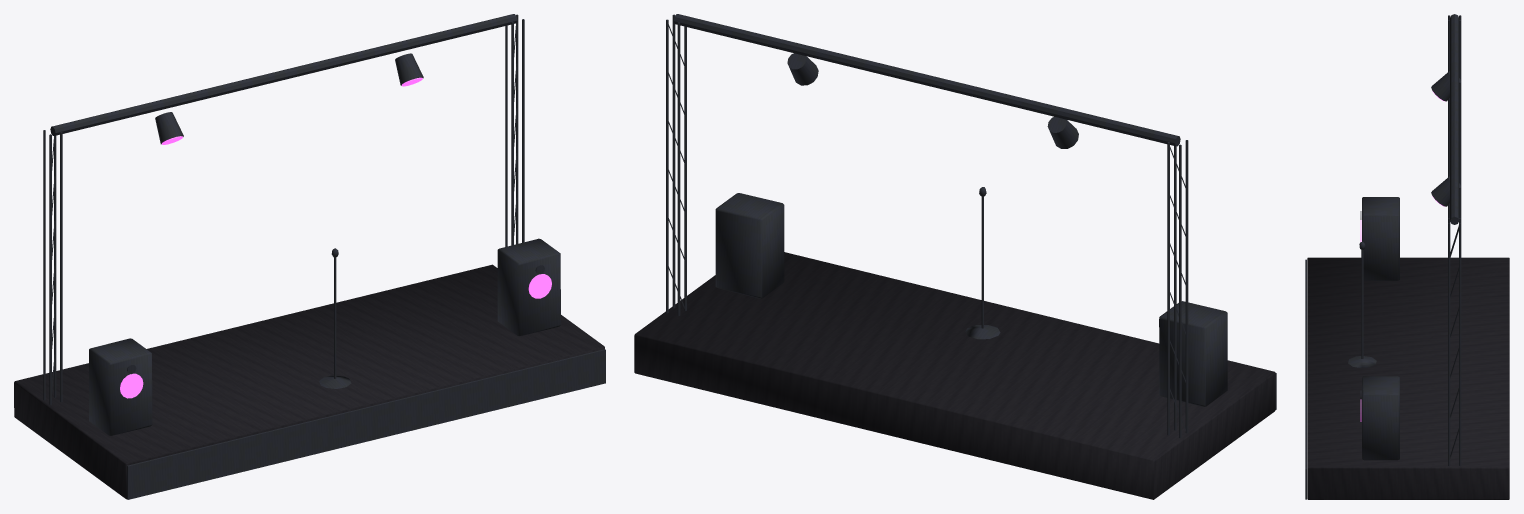
File: palco-pequeno-leve.glb
3 renders of one model, left to right at view 1: azimuth 30°, elevation 25°; view 2: azimuth 150°, elevation 25°; view 3: azimuth 270°, elevation 25°, orthographic. The views are drawn at different scales.
Parts seen in each view (by area): view 1: praticavel, saia, caixa-de-som.001, caixa-de-som, travessa, banzo, banzo.001, banzo.002, banzo.003, banzo.004, banzo.006, banzo.005 (+1 smaller); view 2: praticavel, caixa-de-som.001, travessa, caixa-de-som, banzo.005, banzo, banzo.006, banzo.001, banzo.007, banzo.003, banzo.004, banzo.002 (+2 smaller); view 3: praticavel, caixa-de-som.001, caixa-de-som, travessa, banzo.006, banzo.007, banzo.003, saia, refletor, refletor.001, haste-do-microfone, banzo.002 (+1 smaller).
Part boxes in pixels (x1,y1,x2,y2): praticavel: (14, 264, 604, 499); saia: (127, 349, 605, 499); caixa-de-som.001: (497, 238, 560, 336); caixa-de-som: (89, 338, 152, 435); travessa: (50, 14, 517, 135); banzo: (49, 134, 51, 404); banzo.001: (43, 130, 45, 400); banzo.002: (60, 132, 62, 402); banzo.003: (54, 135, 56, 397); banzo.004: (511, 21, 513, 245); banzo.006: (522, 19, 524, 242); banzo.005: (505, 25, 507, 246); praticavel: (634, 252, 1275, 499); caixa-de-som.001: (715, 193, 784, 298); travessa: (674, 14, 1180, 146); caixa-de-som: (1159, 301, 1227, 406); banzo.005: (677, 22, 680, 315); banzo: (1185, 140, 1188, 433); banzo.006: (672, 14, 675, 308); banzo.001: (1179, 144, 1181, 438); banzo.007: (666, 19, 668, 313); banzo.003: (1167, 142, 1169, 435); banzo.004: (684, 26, 686, 310); banzo.002: (1174, 146, 1176, 430); praticavel: (1307, 257, 1509, 499); caixa-de-som.001: (1362, 376, 1399, 460); caixa-de-som: (1362, 197, 1399, 280); travessa: (1450, 14, 1459, 224); banzo.006: (1448, 223, 1450, 466); banzo.007: (1459, 223, 1461, 466); banzo.003: (1459, 20, 1461, 218); saia: (1305, 259, 1306, 499); refletor: (1431, 71, 1461, 101); refletor.001: (1431, 176, 1460, 206); haste-do-microfone: (1361, 250, 1363, 358); banzo.002: (1448, 20, 1449, 218).
Bounding box in the file's own units: 5.4 × 3.35 × 2.22.
Materials: 3 (2 with a texture image).
